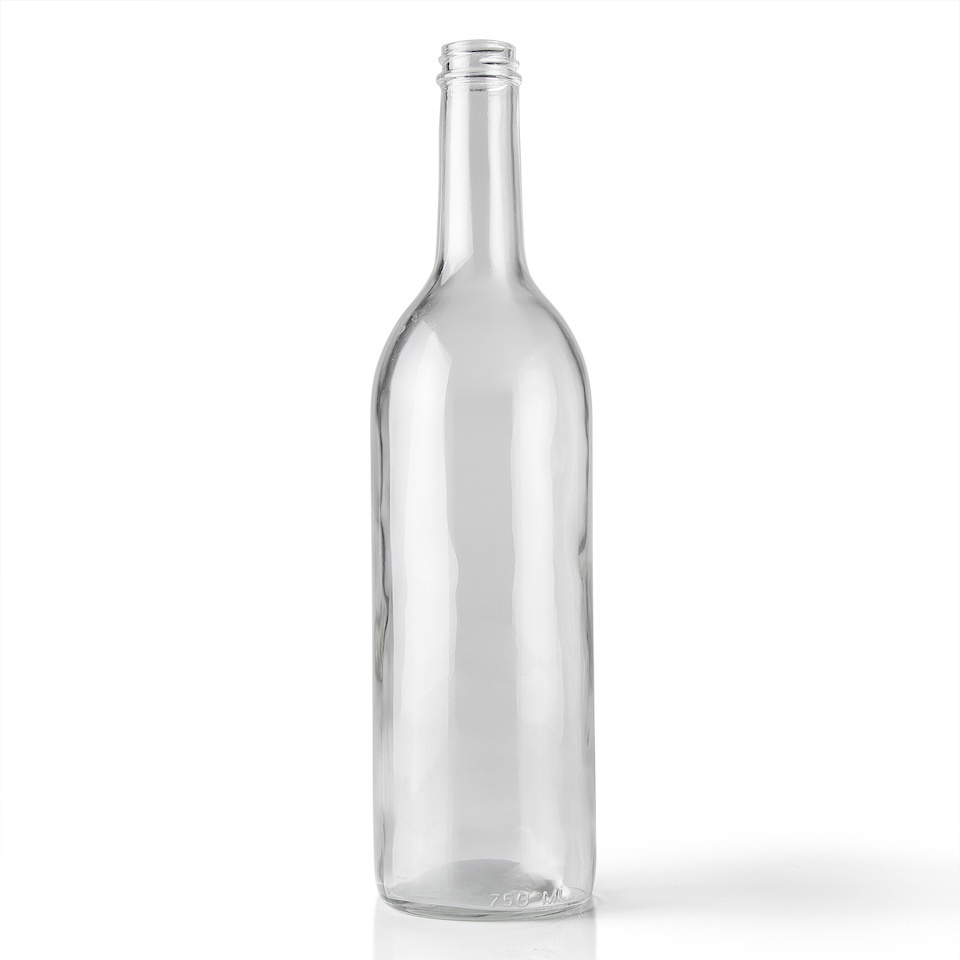emptybottle: (372, 41, 596, 922)
